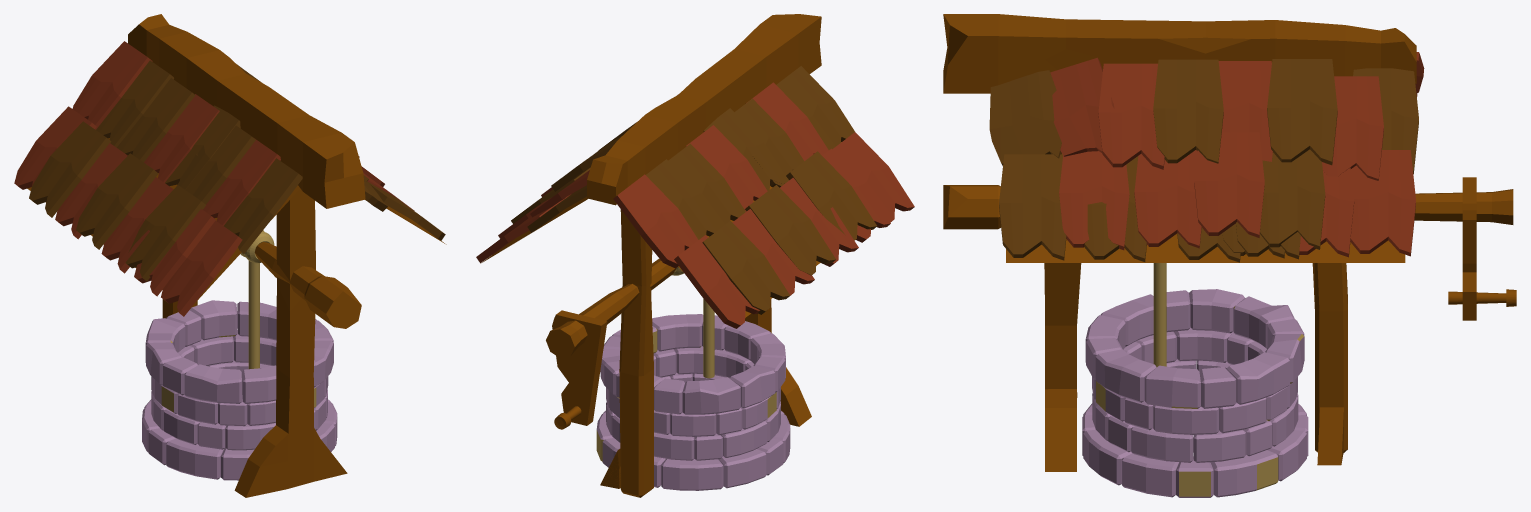
File: Project.fbx
3 renders of one model, left to right at view 1: azimuth 30°, elevation 25°; view 2: azimuth 150°, elevation 25°; view 3: azimuth 270°, elevation 25°, orthographic. The views are drawn at different scales.
Parts seen in each view (by area): view 1: Circle, Cube.006, Cube.004, Plane.033, Plane.021, Plane.032, Plane.030, Plane.025, Plane.036, Plane.023, Plane.024, Plane.022 (+10 smaller); view 2: Circle, Cube.006, Cube.004, Plane.036, Plane.021, Plane.033, Plane.030, Plane.035, Plane.025, Plane.032, Plane.024, Plane.023 (+12 smaller); view 3: Circle, Cube.004, Cube.006, Plane.004, Plane.007, Plane.018, Plane.006, Plane.008, Plane.010, Plane.009, Plane.003, Plane.019 (+11 smaller).
Part boxes in pixels (x1=…): Circle: x1=142, y1=300, x2=337, y2=480; Cube.006: x1=162, y1=188, x2=361, y2=497; Cube.004: x1=128, y1=14, x2=365, y2=208; Plane.033: x1=76, y1=153, x2=158, y2=249; Plane.021: x1=29, y1=121, x2=111, y2=217; Plane.032: x1=161, y1=220, x2=242, y2=316; Plane.030: x1=125, y1=185, x2=205, y2=281; Plane.025: x1=224, y1=158, x2=302, y2=253; Plane.036: x1=72, y1=41, x2=152, y2=129; Plane.023: x1=117, y1=78, x2=195, y2=162; Plane.024: x1=144, y1=94, x2=219, y2=182; Plane.022: x1=96, y1=60, x2=173, y2=147; Circle: x1=596, y1=314, x2=790, y2=490; Cube.006: x1=546, y1=209, x2=811, y2=497; Cube.004: x1=587, y1=14, x2=821, y2=205; Plane.036: x1=613, y1=174, x2=698, y2=268; Plane.021: x1=702, y1=221, x2=790, y2=314; Plane.033: x1=745, y1=185, x2=835, y2=275; Plane.030: x1=786, y1=151, x2=876, y2=240; Plane.035: x1=674, y1=235, x2=760, y2=328; Plane.025: x1=776, y1=66, x2=854, y2=149; Plane.032: x1=832, y1=132, x2=914, y2=222; Plane.024: x1=686, y1=125, x2=767, y2=211; Plane.023: x1=668, y1=143, x2=745, y2=226; Circle: x1=1082, y1=289, x2=1308, y2=497; Cube.004: x1=943, y1=14, x2=1416, y2=93; Cube.006: x1=943, y1=177, x2=1516, y2=471; Plane.004: x1=1267, y1=59, x2=1337, y2=165; Plane.007: x1=1153, y1=59, x2=1223, y2=163; Plane.018: x1=999, y1=154, x2=1066, y2=260; Plane.006: x1=1194, y1=132, x2=1264, y2=237; Plane.008: x1=1098, y1=63, x2=1164, y2=169; Plane.010: x1=1350, y1=150, x2=1415, y2=256; Plane.009: x1=1260, y1=149, x2=1325, y2=249; Plane.003: x1=989, y1=70, x2=1061, y2=165; Plane.019: x1=1059, y1=151, x2=1129, y2=250.
Size of the model in its own units: 2256 by 2826 by 3454.
